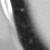node: (19, 8, 25, 13)
